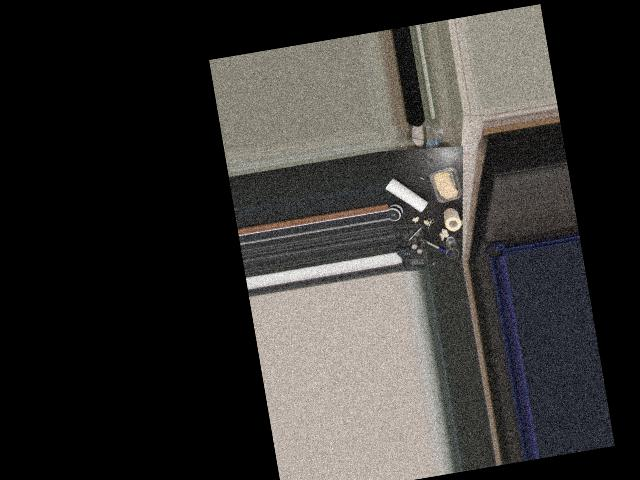cheese: (426, 162, 464, 205)
